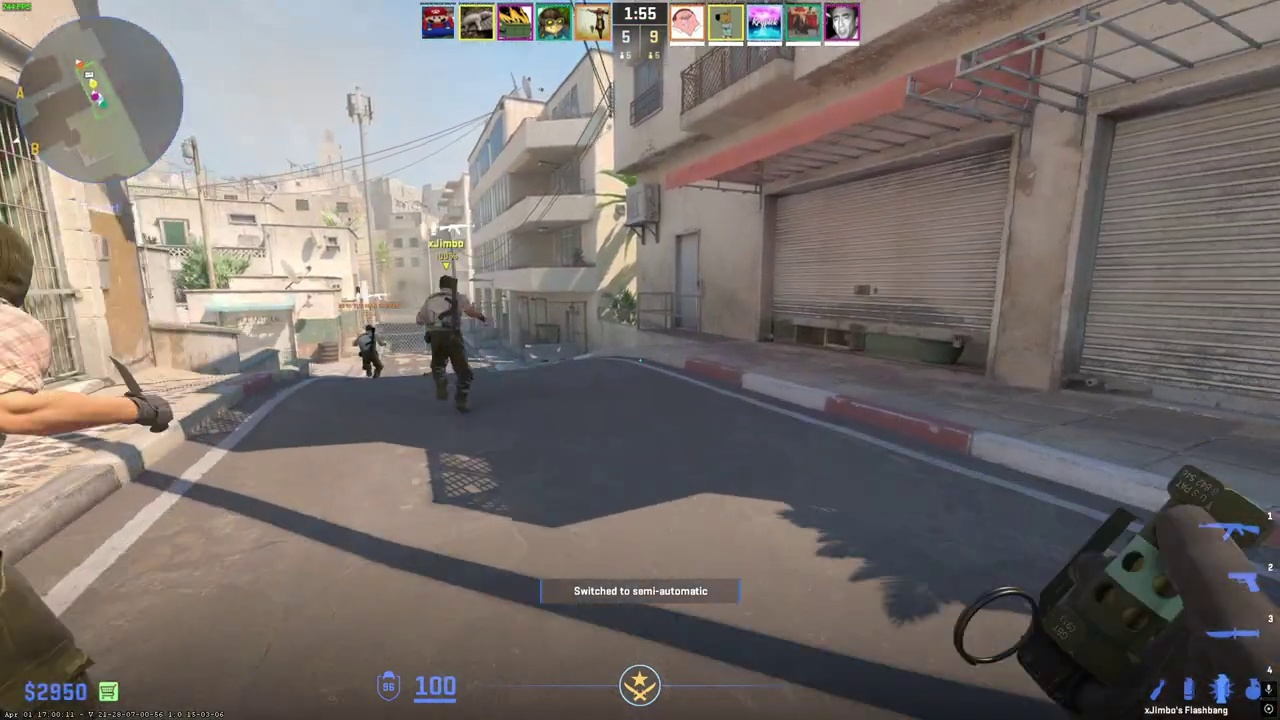Terrorist: (0, 221, 149, 716), (421, 274, 479, 414), (359, 324, 383, 380)
